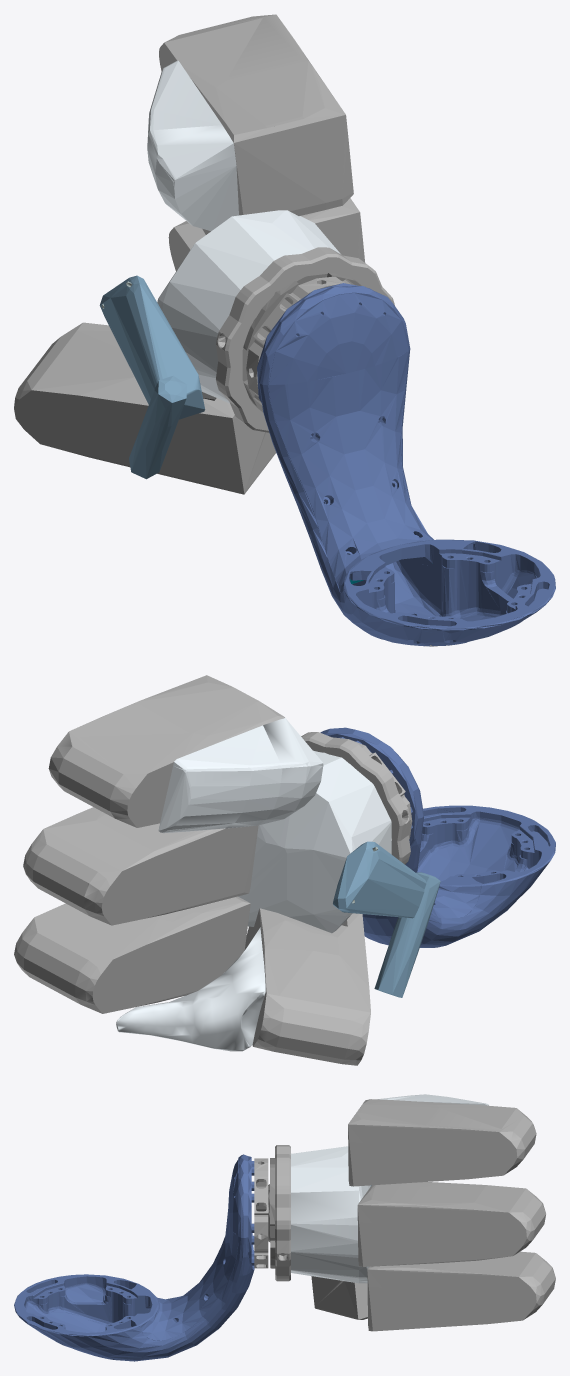
The model's file is left_arm7.dae.
3 renders of one model, top to bottom at view 1: azimuth 30°, elevation 25°; view 2: azimuth 150°, elevation 25°; view 3: azimuth 270°, elevation 25°, orthographic. The views are drawn at different scales.
Parts seen in each view (by area): view 1: left-lwr-3-link7-bsa_iv_MatrixTransform_Group__Geometry_1_00, aVis_Hand_right_aVis_RingFinger_MatrixTransform_Group_Group_, aVis_Hand_right_aVis_Thumb_MatrixTransform_Group_Group__Geo_, aVis_Hand_right_Group__Geometry_20, aVis_Hand_right_aVis_RingFinger_MatrixTransform_Group__Geom_, left-lwr-3-link7-bsa_iv_MatrixTransform_Group__Geometry_3_00, aVis_Hand_right_Group__Geometry_18, aVis_Hand_right_Group__Geometry_11, aVis_Hand_right_aVis_MiddleFinger_MatrixTransform_Group_Gro_, left-lwr-3-link7-bsa_iv_MatrixTransform_Group__Geometry_2, aVis_Hand_right_aVis_ForeFinger_MatrixTransform_Group_Group_; view 2: aVis_Hand_right_aVis_MiddleFinger_MatrixTransform_Group_Gro_, aVis_Hand_right_aVis_ForeFinger_MatrixTransform_Group_Group_, aVis_Hand_right_aVis_RingFinger_MatrixTransform_Group_Group_, left-lwr-3-link7-bsa_iv_MatrixTransform_Group__Geometry_1_00, aVis_Hand_right_aVis_Thumb_MatrixTransform_Group_Group__Geo_, aVis_Hand_right_Group__Geometry_20, aVis_Hand_right_aVis_RingFinger_MatrixTransform_Group__Geom_, aVis_Hand_right_aVis_Thumb_MatrixTransform__Geometry_0, aVis_Hand_right_Group__Geometry_18, left-lwr-3-link7-bsa_iv_MatrixTransform_Group__Geometry_3_00, aVis_Hand_right_Group__Geometry_11; view 3: left-lwr-3-link7-bsa_iv_MatrixTransform_Group__Geometry_1_00, aVis_Hand_right_aVis_RingFinger_MatrixTransform_Group_Group_, aVis_Hand_right_aVis_MiddleFinger_MatrixTransform_Group_Gro_, aVis_Hand_right_aVis_ForeFinger_MatrixTransform_Group_Group_, aVis_Hand_right_Group__Geometry_20, left-lwr-3-link7-bsa_iv_MatrixTransform_Group__Geometry_3_00, aVis_Hand_right_aVis_Thumb_MatrixTransform_Group_Group__Geo_, left-lwr-3-link7-bsa_iv_MatrixTransform_Group__Geometry_2, aVis_Hand_right_aVis_RingFinger_MatrixTransform_Group__Geom_.
Boxes of the visible parts, x1,y1,x2,y2 form: left-lwr-3-link7-bsa_iv_MatrixTransform_Group__Geometry_1_00: (257,283,555,646); aVis_Hand_right_aVis_RingFinger_MatrixTransform_Group_Group_: (159,14,353,215); aVis_Hand_right_aVis_Thumb_MatrixTransform_Group_Group__Geo_: (14,322,276,494); aVis_Hand_right_Group__Geometry_20: (157,210,340,403); aVis_Hand_right_aVis_RingFinger_MatrixTransform_Group__Geom_: (147,60,238,231); left-lwr-3-link7-bsa_iv_MatrixTransform_Group__Geometry_3_00: (216,247,451,646); aVis_Hand_right_Group__Geometry_18: (99,275,205,419); aVis_Hand_right_Group__Geometry_11: (129,376,186,479); aVis_Hand_right_aVis_MiddleFinger_MatrixTransform_Group_Gro_: (202,198,365,262); left-lwr-3-link7-bsa_iv_MatrixTransform_Group__Geometry_2: (242,272,361,412); aVis_Hand_right_aVis_ForeFinger_MatrixTransform_Group_Group_: (168,221,205,271); aVis_Hand_right_aVis_MiddleFinger_MatrixTransform_Group_Gro_: (23,807,258,925); aVis_Hand_right_aVis_ForeFinger_MatrixTransform_Group_Group_: (14,896,250,1013); aVis_Hand_right_aVis_RingFinger_MatrixTransform_Group_Group_: (48,675,284,827); left-lwr-3-link7-bsa_iv_MatrixTransform_Group__Geometry_1_00: (320,727,555,947); aVis_Hand_right_aVis_Thumb_MatrixTransform_Group_Group__Geo_: (245,908,370,1065); aVis_Hand_right_Group__Geometry_20: (238,750,391,933); aVis_Hand_right_aVis_RingFinger_MatrixTransform_Group__Geom_: (158,718,323,833); aVis_Hand_right_aVis_Thumb_MatrixTransform__Geometry_0: (116,927,265,1051); aVis_Hand_right_Group__Geometry_18: (333,841,426,918); left-lwr-3-link7-bsa_iv_MatrixTransform_Group__Geometry_3_00: (301,732,412,864); aVis_Hand_right_Group__Geometry_11: (374,872,440,997); left-lwr-3-link7-bsa_iv_MatrixTransform_Group__Geometry_1_00: (14,1154,254,1361); aVis_Hand_right_aVis_RingFinger_MatrixTransform_Group_Group_: (348,1099,536,1186); aVis_Hand_right_aVis_MiddleFinger_MatrixTransform_Group_Gro_: (357,1182,545,1266); aVis_Hand_right_aVis_ForeFinger_MatrixTransform_Group_Group_: (367,1251,555,1331); aVis_Hand_right_Group__Geometry_20: (291,1146,370,1283); left-lwr-3-link7-bsa_iv_MatrixTransform_Group__Geometry_3_00: (254,1145,290,1281); aVis_Hand_right_aVis_Thumb_MatrixTransform_Group_Group__Geo_: (311,1276,367,1319); left-lwr-3-link7-bsa_iv_MatrixTransform_Group__Geometry_2: (268,1158,275,1268); aVis_Hand_right_aVis_RingFinger_MatrixTransform_Group__Geom_: (378,1094,488,1105).
Size of the model in its own units: 0.1473 by 0.3082 by 0.1651.
